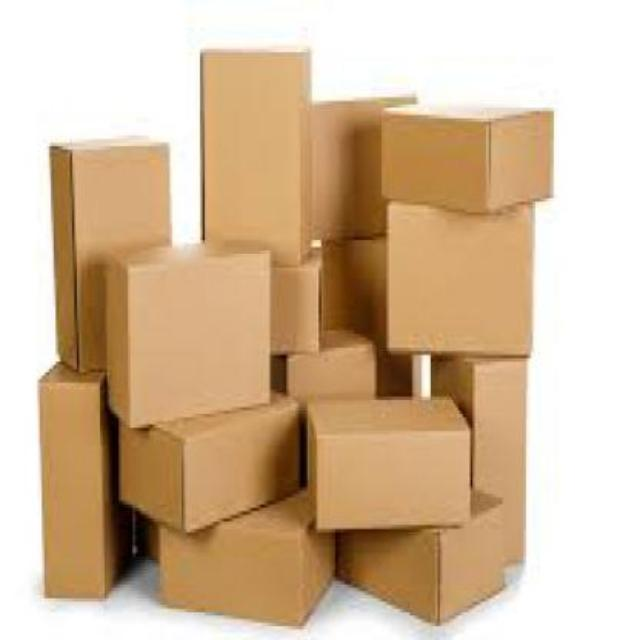cardboard_box: (38, 143, 174, 370), (110, 246, 272, 409), (424, 352, 546, 568), (280, 335, 376, 605), (194, 46, 306, 266), (158, 498, 340, 626), (118, 398, 302, 524), (385, 203, 531, 355), (38, 356, 124, 596), (308, 392, 464, 524), (334, 504, 510, 612), (383, 101, 561, 205), (287, 99, 413, 239), (194, 240, 316, 352)
